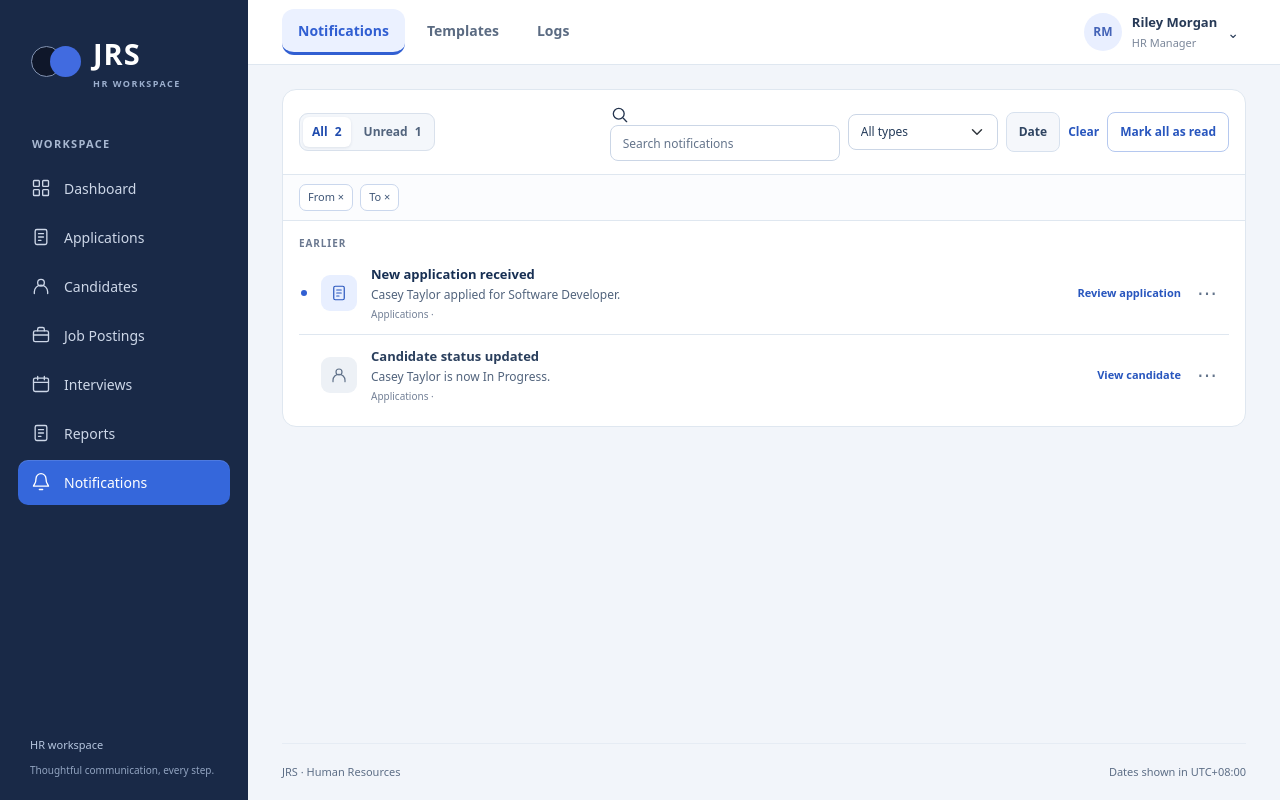
Test: authentication and navigation › retains the session when logout fails, then clears it only on success
This screenshot has width=1280, height=800.
Click the button "RM Riley Morgan HR Manager ⌄": (1161, 32) [1077,8,1246,56]
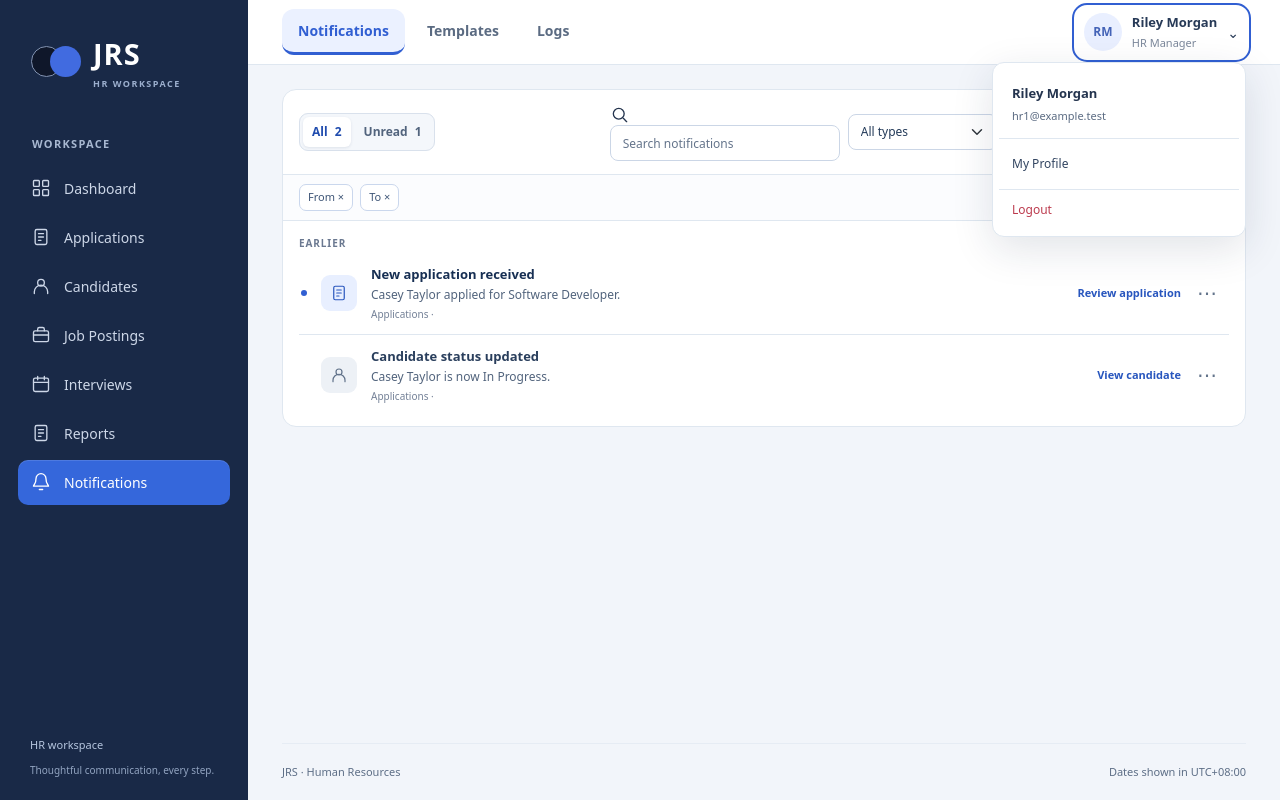
Click the button "Logout": (1119, 209) [999,188,1239,230]
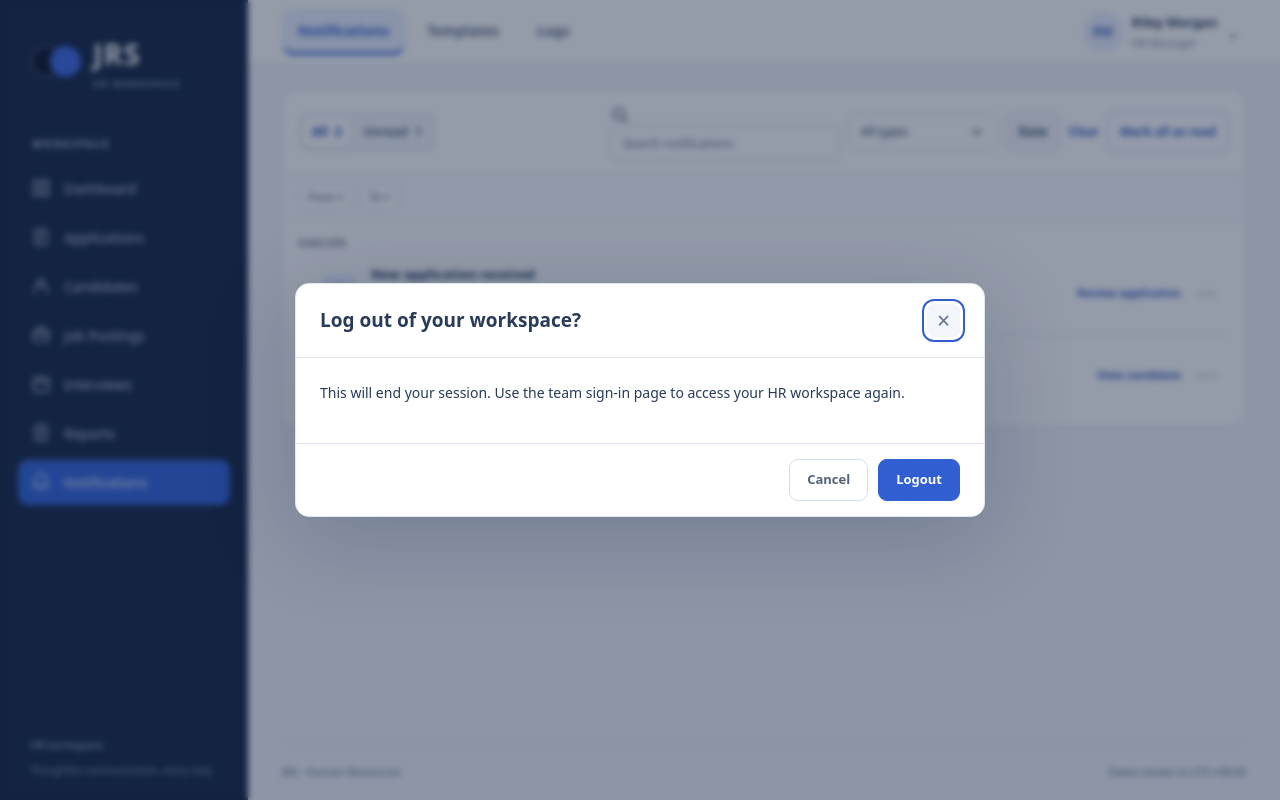
Click the button "Logout": (919, 480) [878,459,960,501]
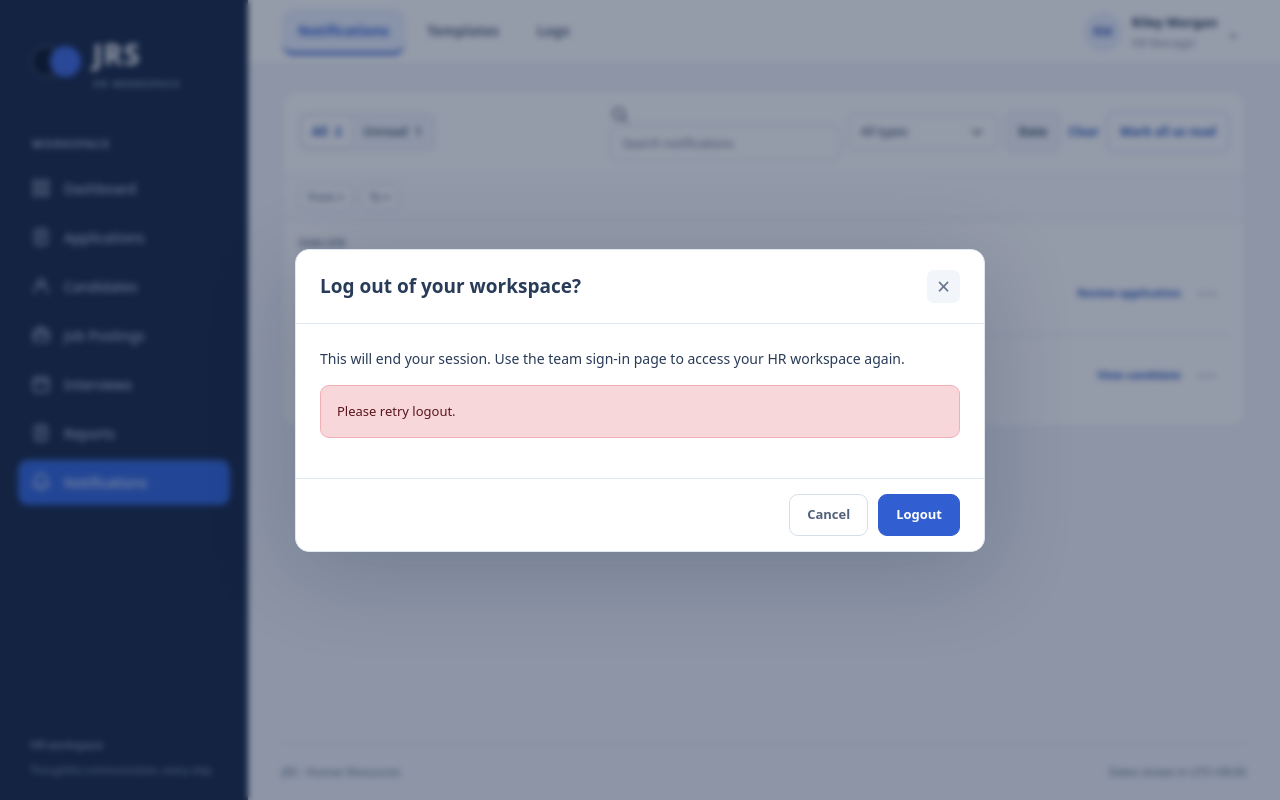
Check: the message shows "Please retry logout", box [337,402,456,420]
Click the button "Logout": (919, 515) [878,494,960,536]
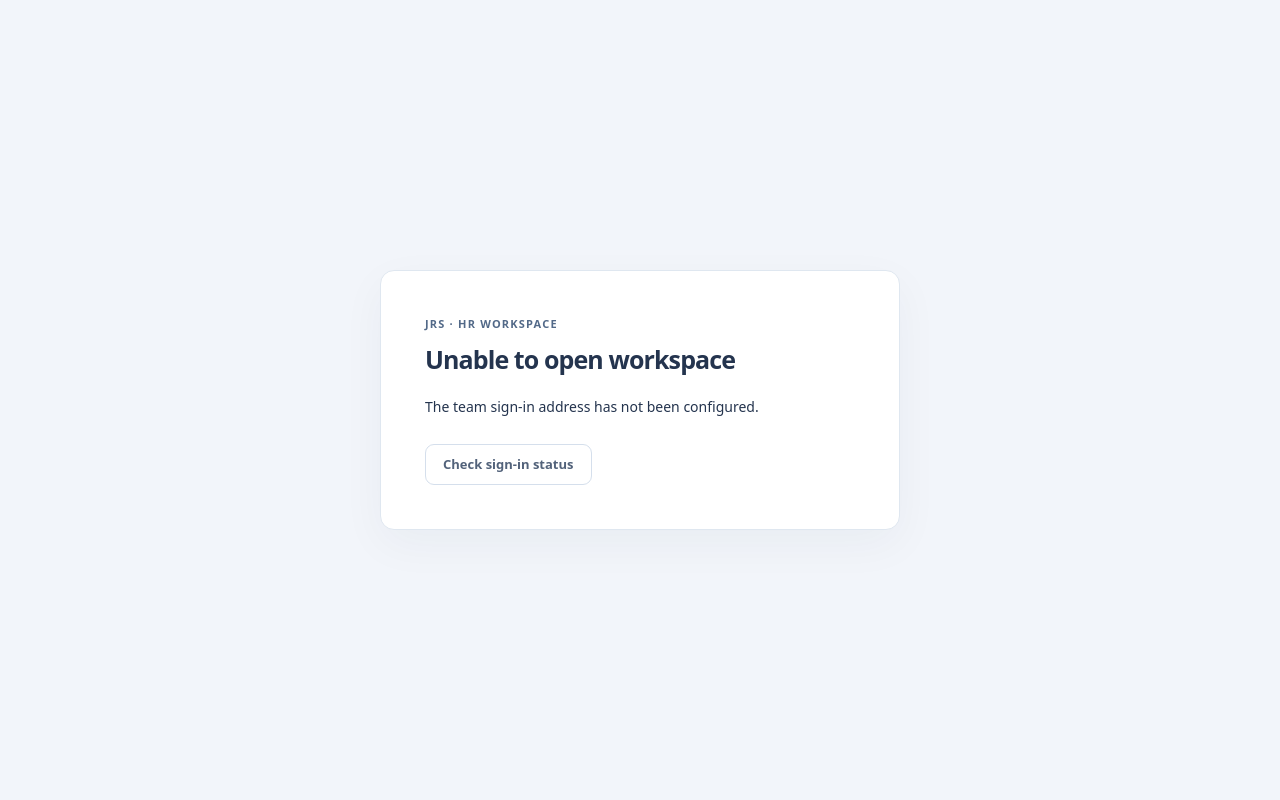
Check: the heading "Unable to open workspace" is shown, box [425,342,735,376]
